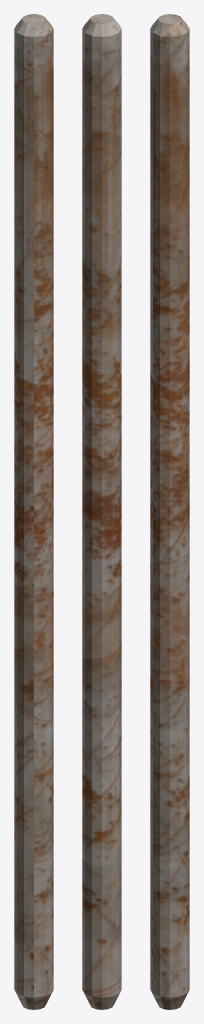
File: small_tube1.glb
The picture shows the model from 3 angles, left to right: view 1: azimuth 30°, elevation 25°; view 2: azimuth 150°, elevation 25°; view 3: azimuth 330°, elevation 25°; orthographic projection.
Parts seen in each view (by area): view 1: small_tube1; view 2: small_tube1; view 3: small_tube1.
Part boxes in pixels (x1,y1,x2,y2): small_tube1: [14, 14, 53, 1009]; small_tube1: [82, 14, 121, 1009]; small_tube1: [150, 14, 189, 1009].
Size of the model in its own units: 0.088 by 2.42 by 0.088.
Materials: 1 (1 with a texture image).
